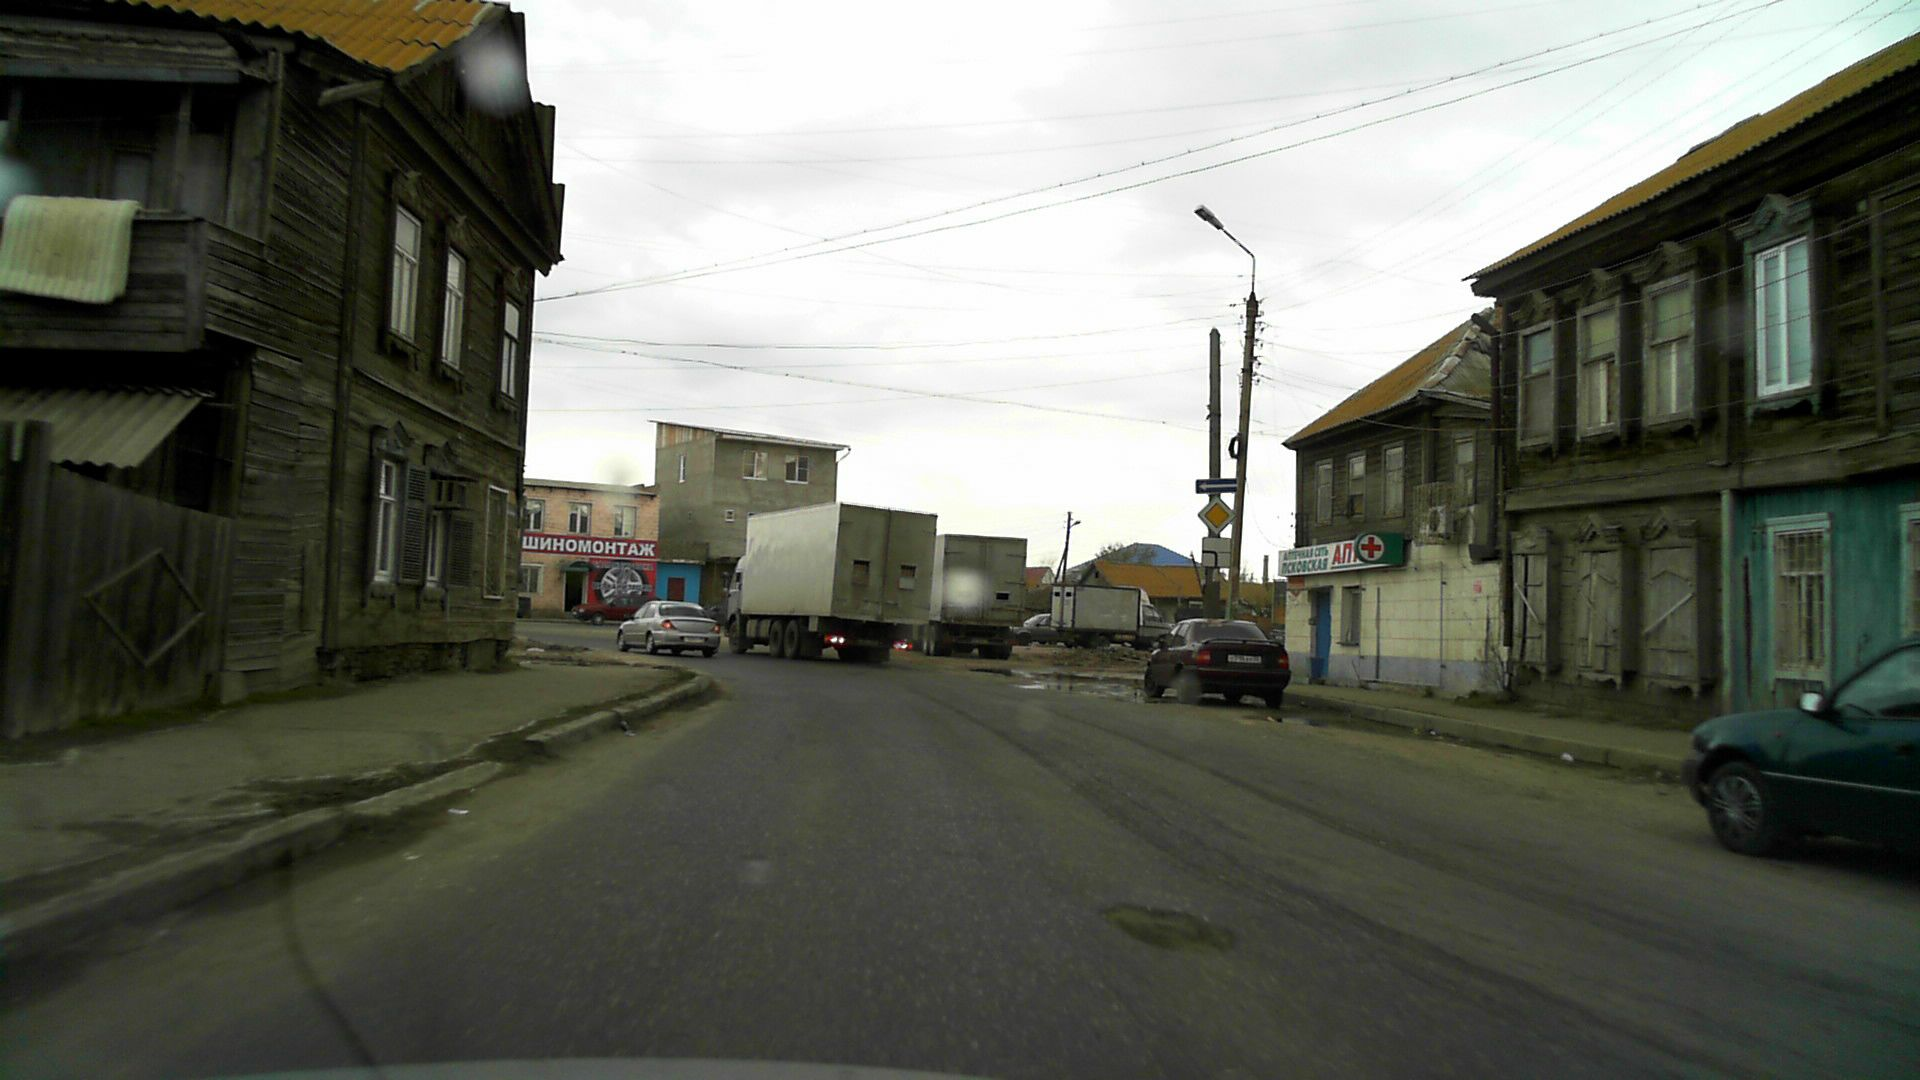One-Way Traffic: (1195, 479, 1238, 493)
